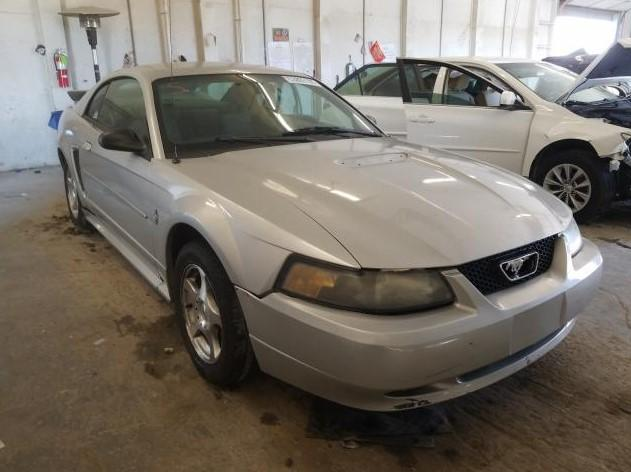Back-wheel: (64, 162, 86, 226)
Back-window: (82, 78, 109, 124)
Fender: (152, 155, 360, 295)
Front-bumper: (234, 232, 605, 413)
Front-door: (84, 72, 159, 271)
Front-wheel: (170, 243, 251, 388)
Grille: (458, 234, 558, 298)
Headlight: (272, 255, 456, 315), (563, 217, 581, 256)
Hood: (205, 137, 574, 270)
Mirror: (98, 127, 143, 151), (364, 115, 376, 127)
Quarter-panel: (57, 108, 93, 206)
Rocker-panel: (83, 208, 170, 304)
Roof: (124, 62, 312, 83)
Windshield: (152, 74, 381, 158)
